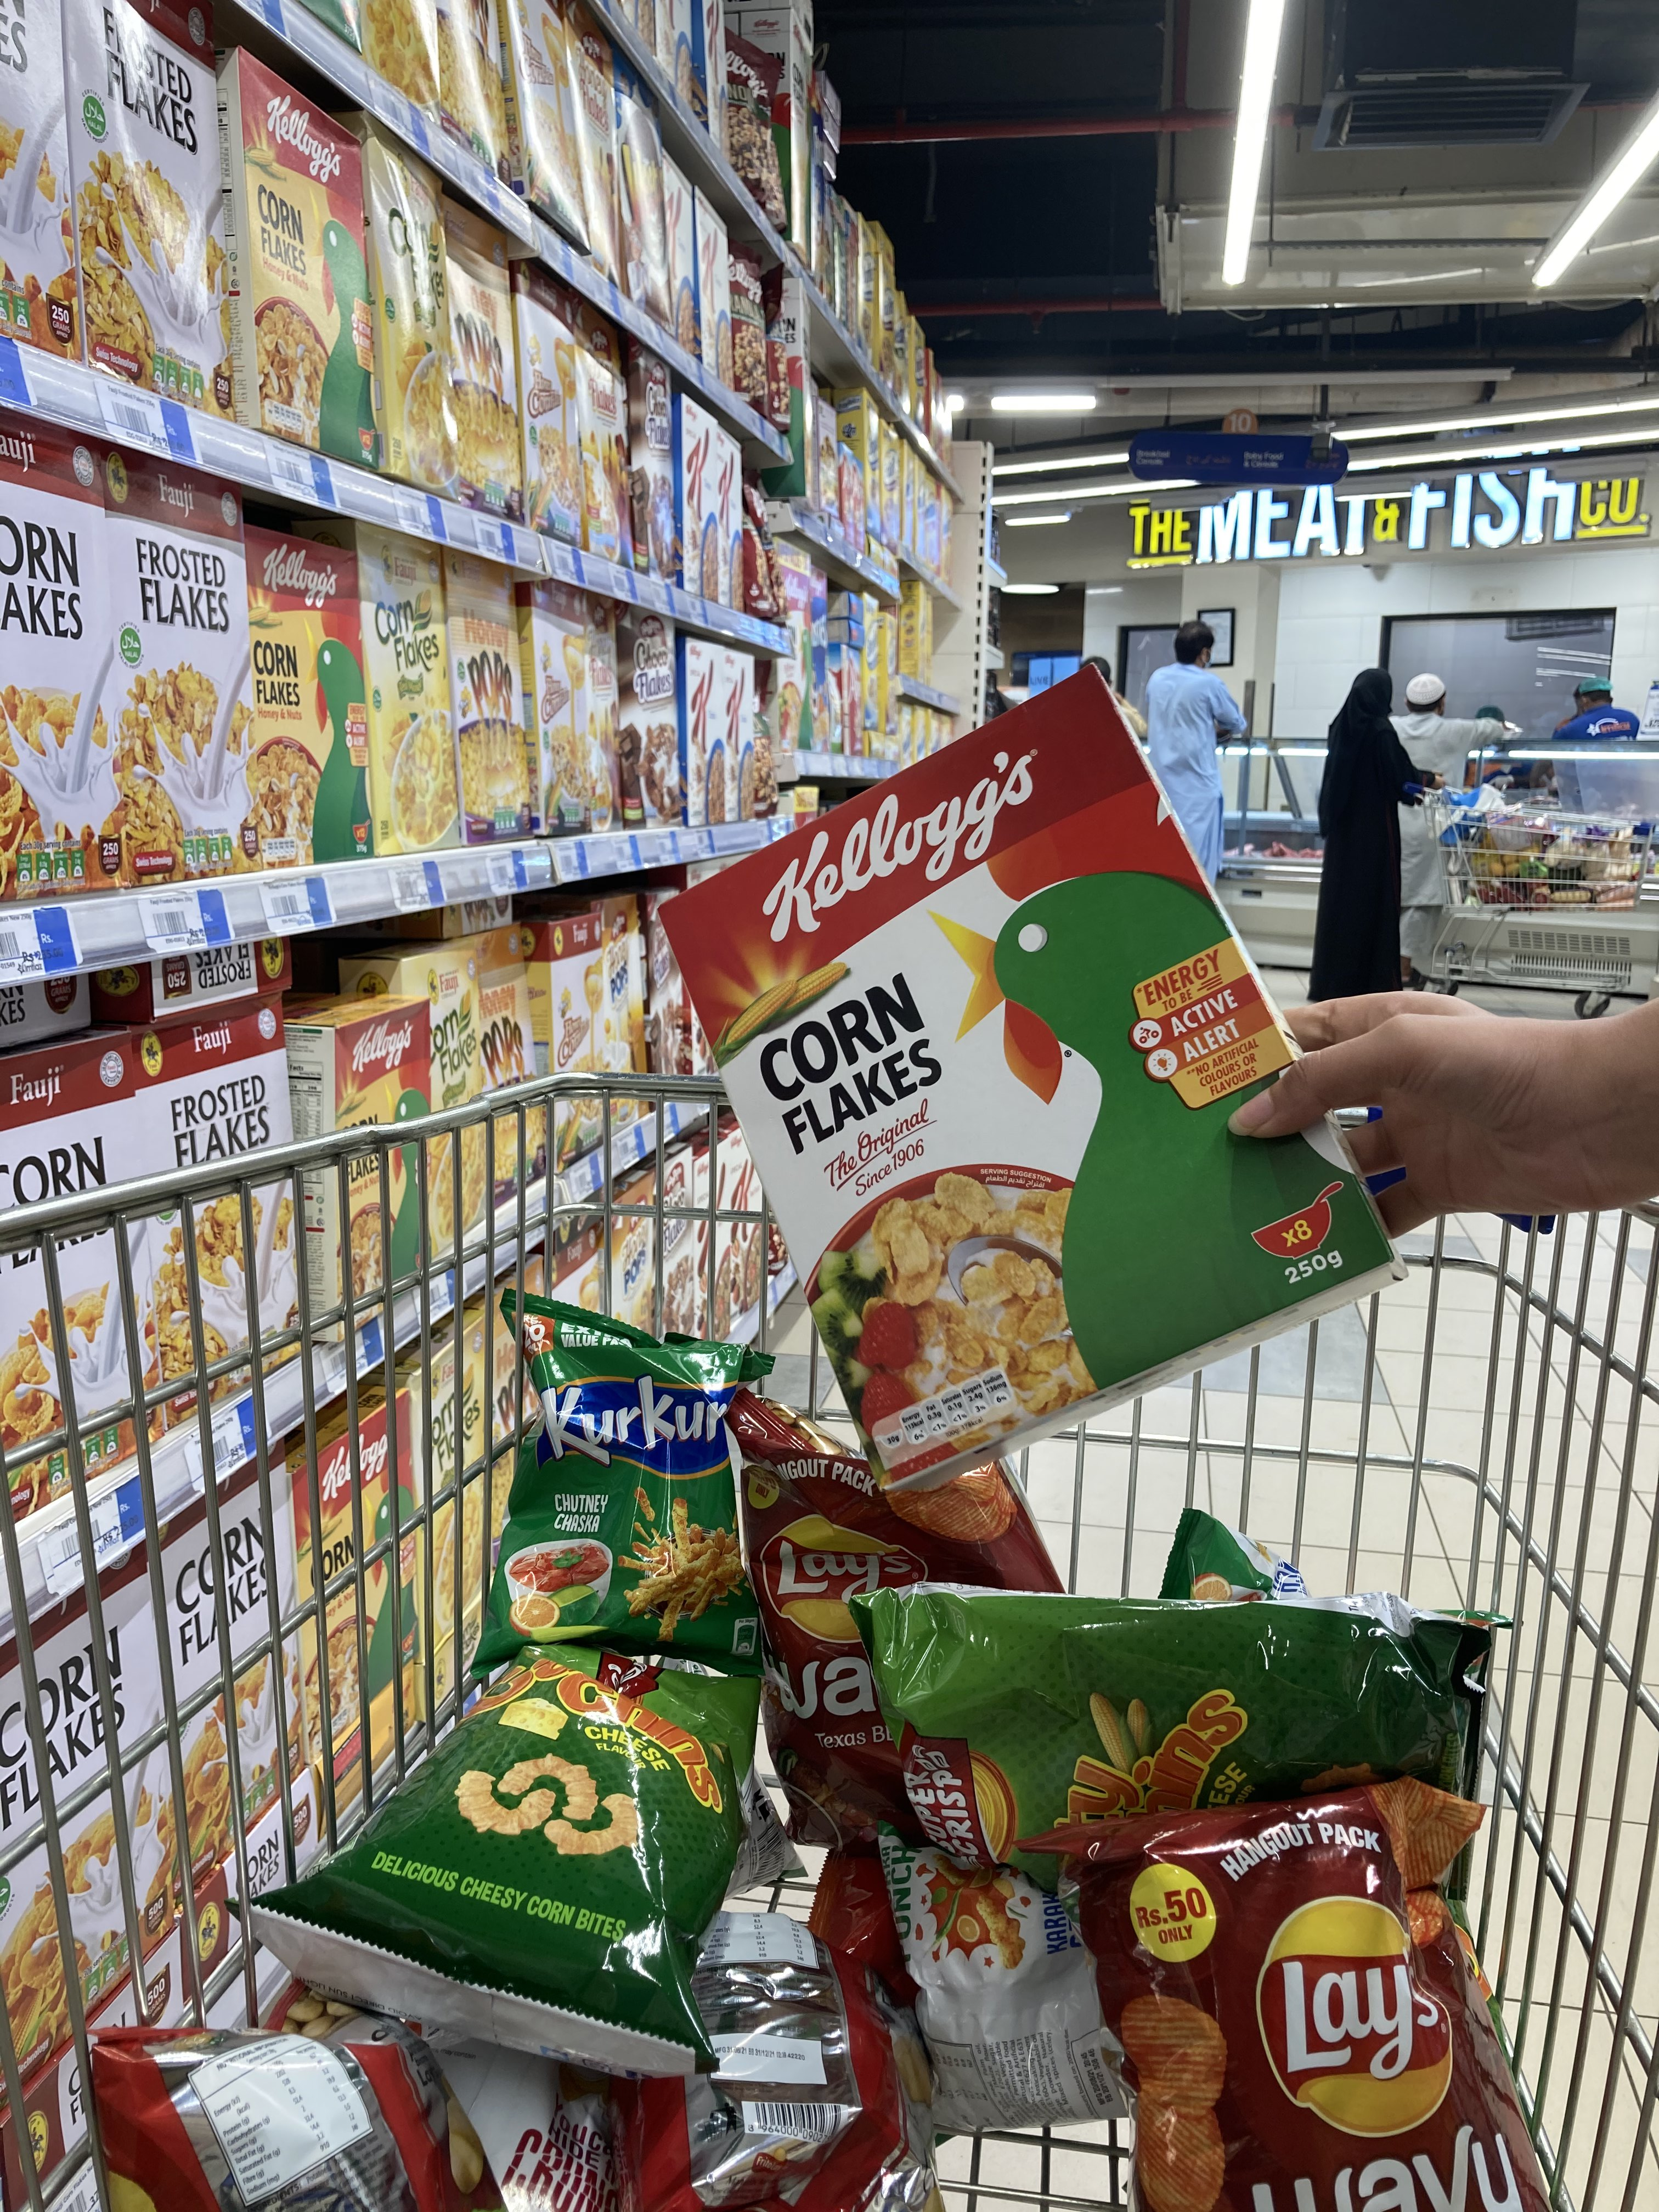Kellogg's Corn Flakes: (653, 667, 1413, 1496)
